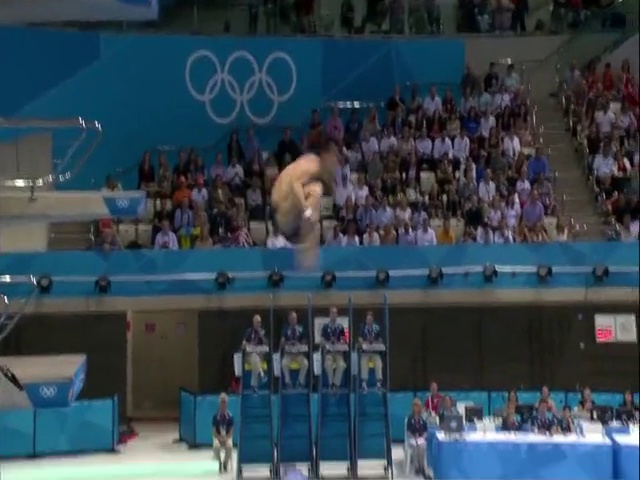diver: (269, 139, 341, 269)
